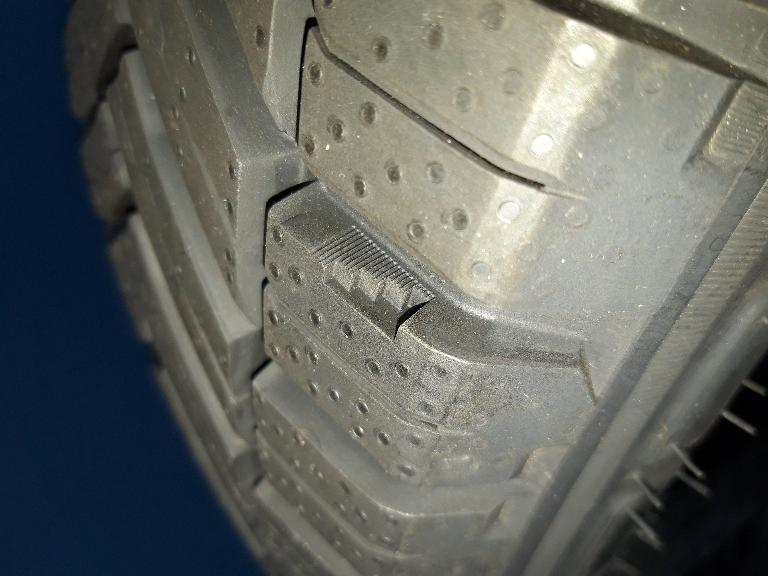temoin:100: (304, 219, 444, 350)
